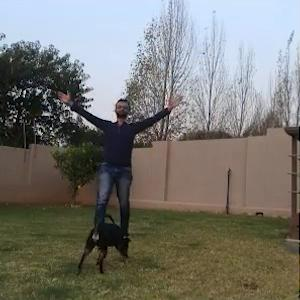takeoff: (44, 64, 187, 241)
